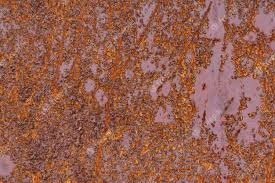rust: (1, 1, 203, 178), (223, 5, 274, 183), (179, 136, 274, 181)
